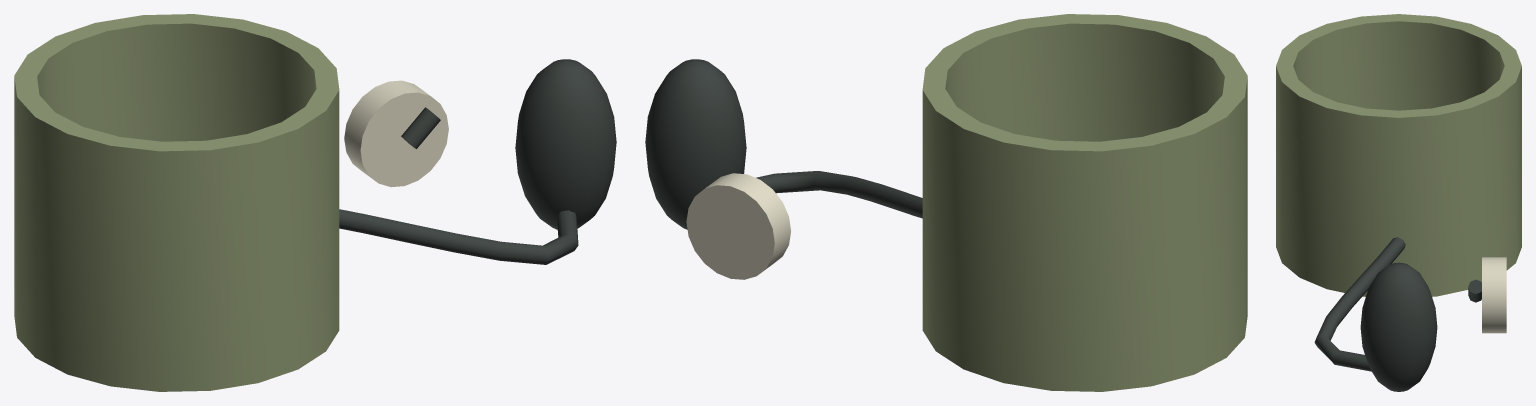
Rendered from field-medicine-and-recovery-blood-pressure-cuff-993c2e03__3063.glb.
The picture shows the model from 3 angles, left to right: view 1: azimuth 30°, elevation 25°; view 2: azimuth 150°, elevation 25°; view 3: azimuth 270°, elevation 25°; orthographic projection. The views are drawn at different scales.
Parts seen in each view (by area): view 1: blood-pressure-cuff; view 2: blood-pressure-cuff; view 3: blood-pressure-cuff.
Boxes of the visible parts, box(x1,y1,x2,y2) form: blood-pressure-cuff: box(14, 14, 616, 391); blood-pressure-cuff: box(645, 14, 1247, 391); blood-pressure-cuff: box(1276, 14, 1521, 391).
Bounding box in the file's own units: 0.325 × 0.13 × 0.16.
